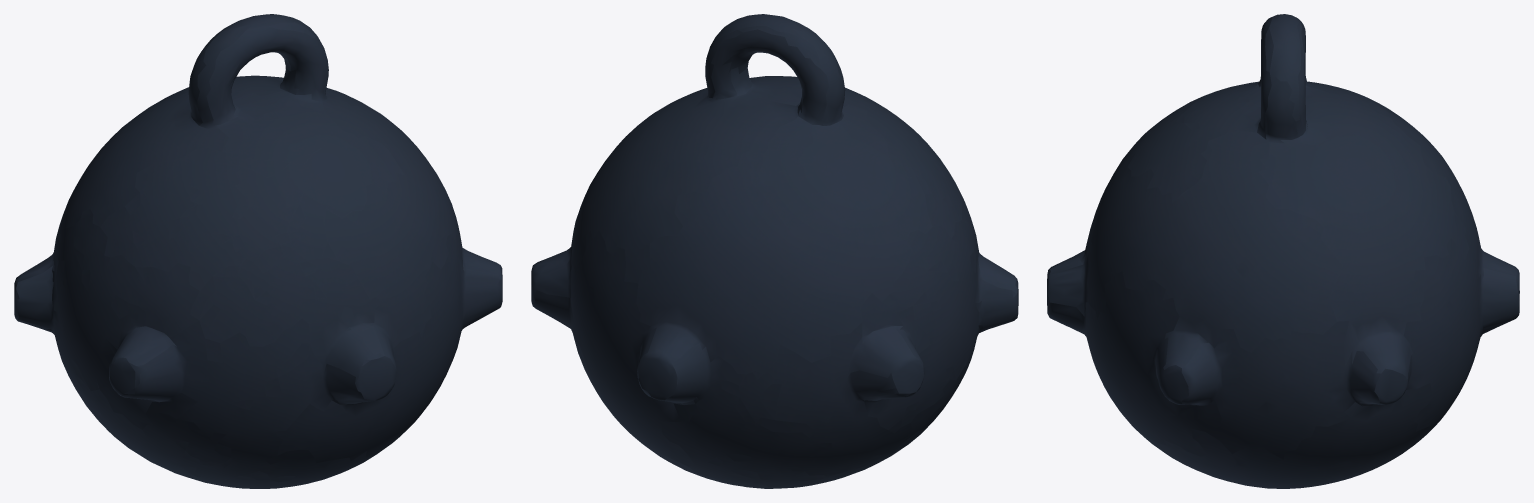
File: PROP_C1_PENDULUM.glb
3 renders of one model, left to right at view 1: azimuth 30°, elevation 25°; view 2: azimuth 150°, elevation 25°; view 3: azimuth 270°, elevation 25°, orthographic.
Visible parts, largest first — view 1: world; view 2: world; view 3: world.
Boxes of the visible parts, bbox=[...] form: world: bbox=[14, 14, 502, 488]; world: bbox=[531, 14, 1018, 488]; world: bbox=[1047, 14, 1519, 488].
Size of the model in its own units: 0.9144 by 1 by 0.9654.
1 material, 1 textured.
